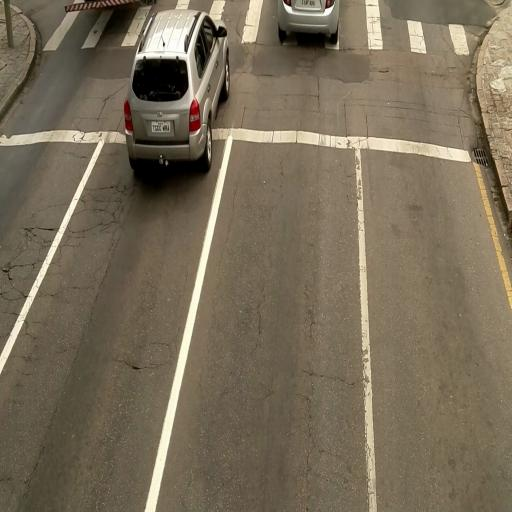car: (130, 8, 232, 174), (276, 1, 340, 42)
